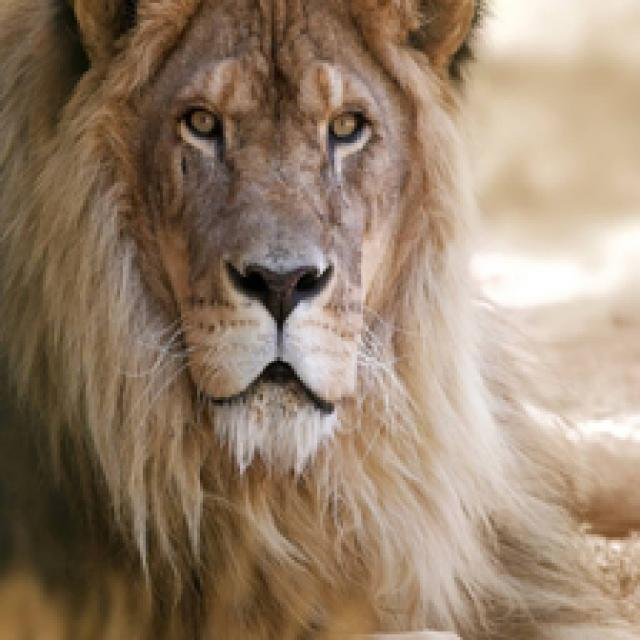lion: (21, 7, 532, 580)
